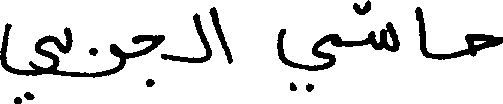ا: (209, 4, 234, 63), (413, 4, 426, 58)
ب: (62, 24, 98, 57)
ج: (131, 33, 164, 87)
ح: (464, 31, 502, 57)
ر: (79, 42, 126, 78)
س: (363, 23, 397, 52)
ل: (190, 5, 209, 62)
ي: (0, 20, 58, 102), (274, 27, 337, 92)
